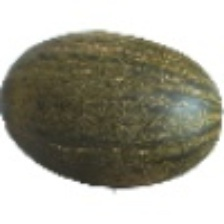honeydew: (23, 15, 224, 184)
